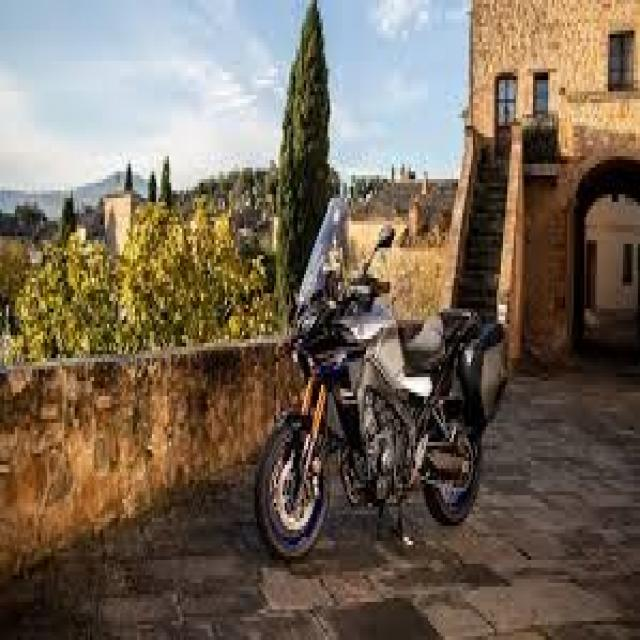Bike: (253, 198, 508, 568)
